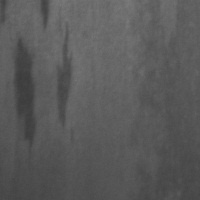inclusion: (9, 34, 39, 152), (54, 20, 79, 132), (35, 1, 53, 31)
